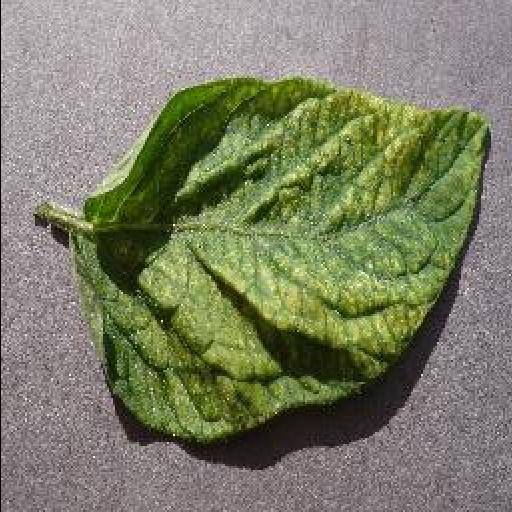disease_tomato: (74, 78, 490, 440)
